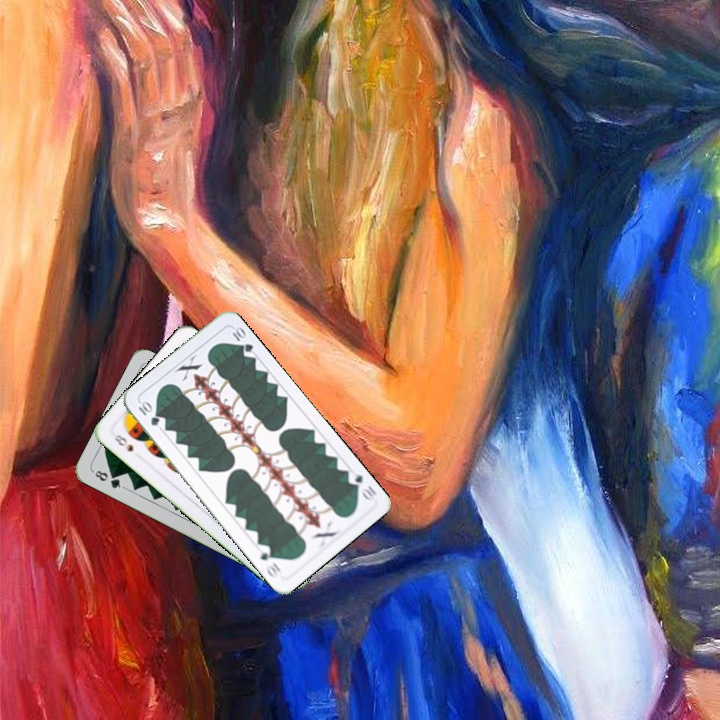G10: (343, 467, 380, 504), (134, 397, 162, 429)
G8: (89, 466, 127, 491)
S8: (107, 431, 136, 455)
